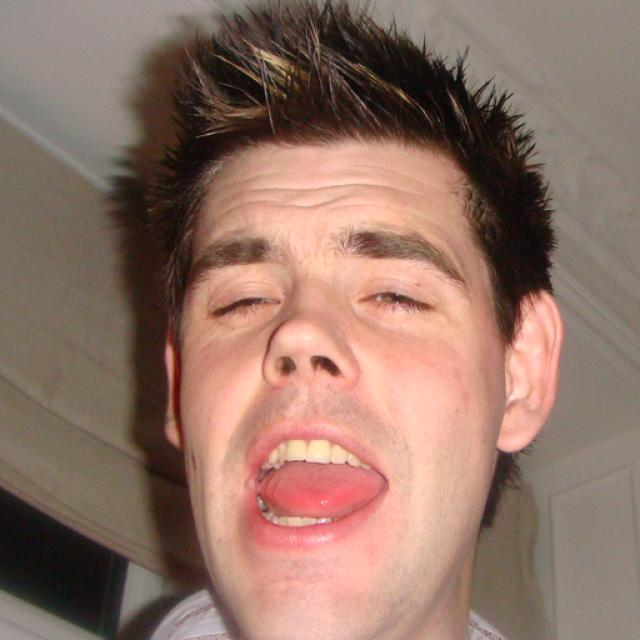Wrinkle: (216, 172, 442, 206), (211, 195, 274, 224), (276, 193, 357, 213)
